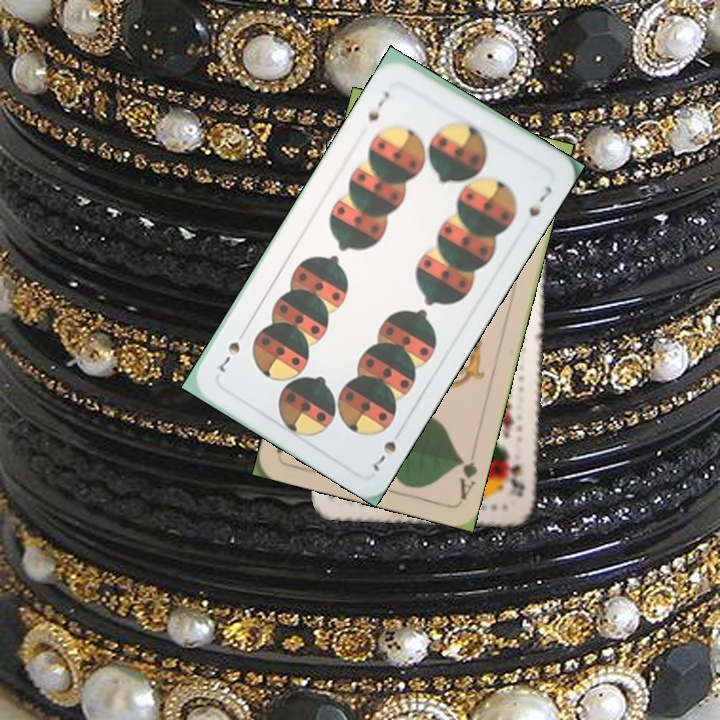GA: (453, 444, 480, 503)
S7: (368, 436, 399, 475), (363, 87, 393, 124)
SK: (505, 458, 528, 500)
